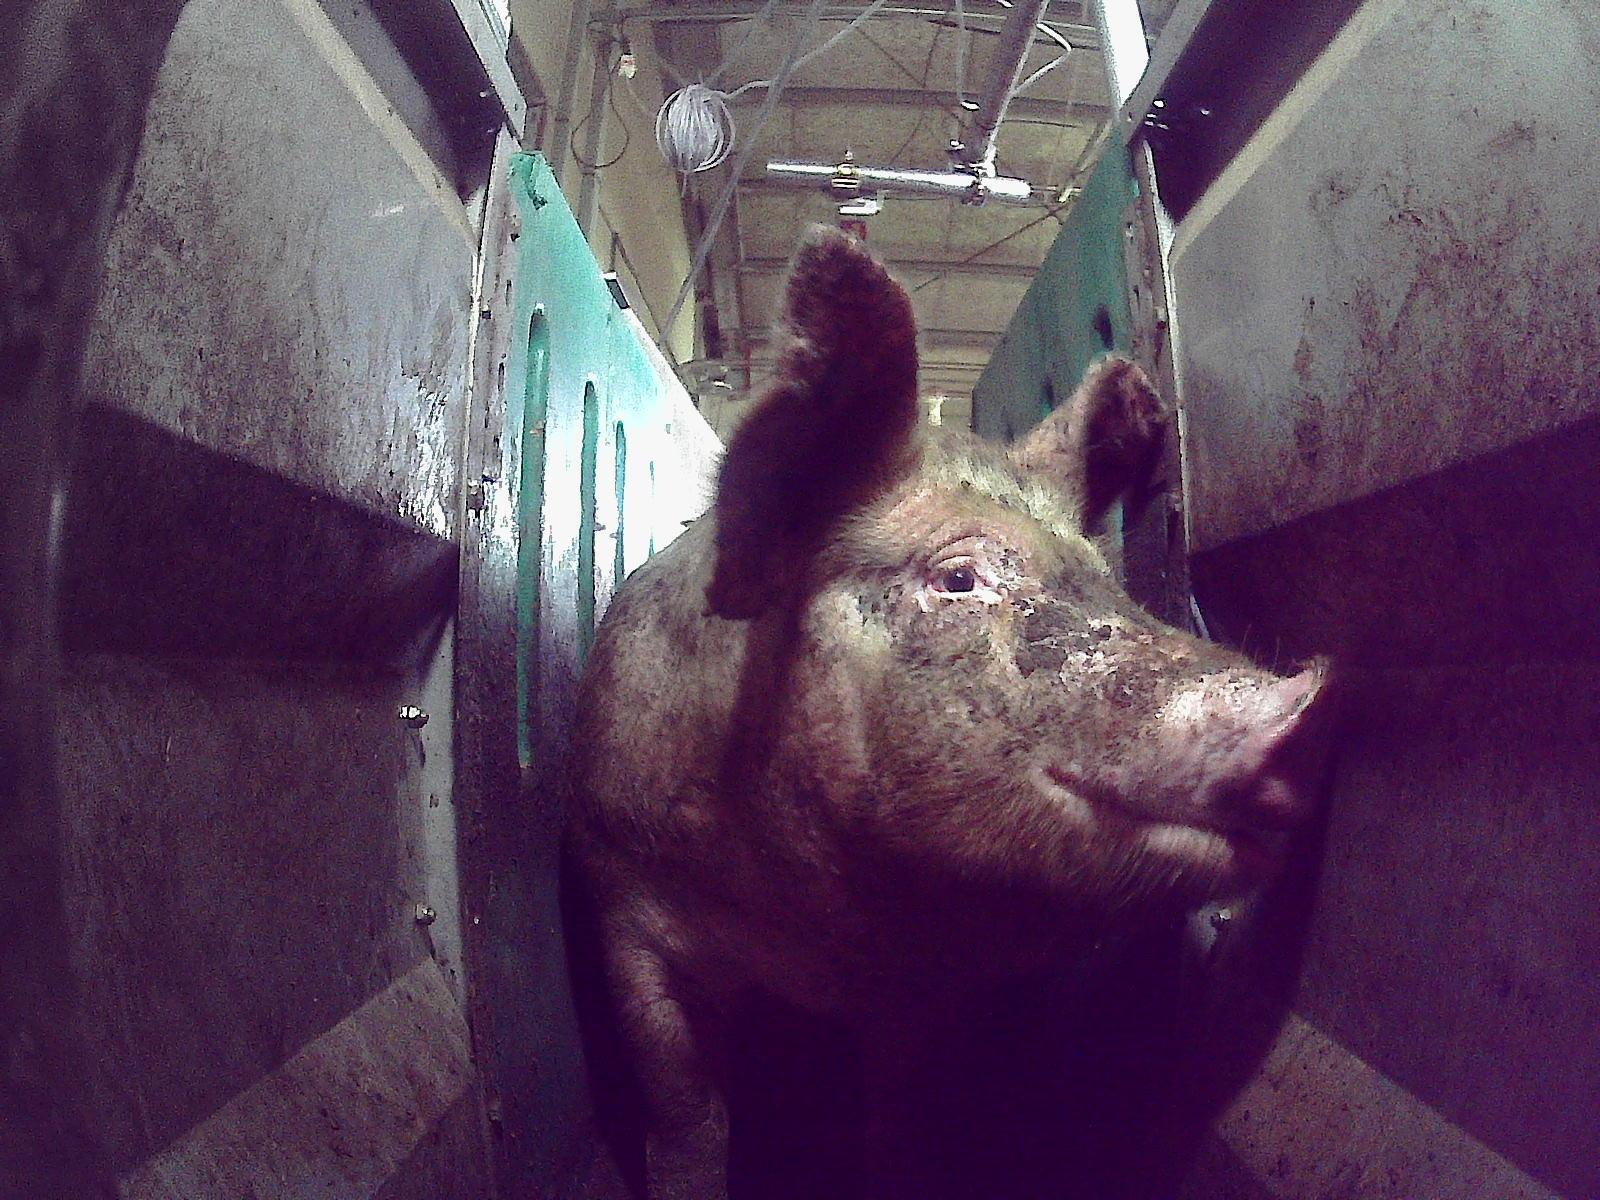Face: (721, 425, 1342, 987)
